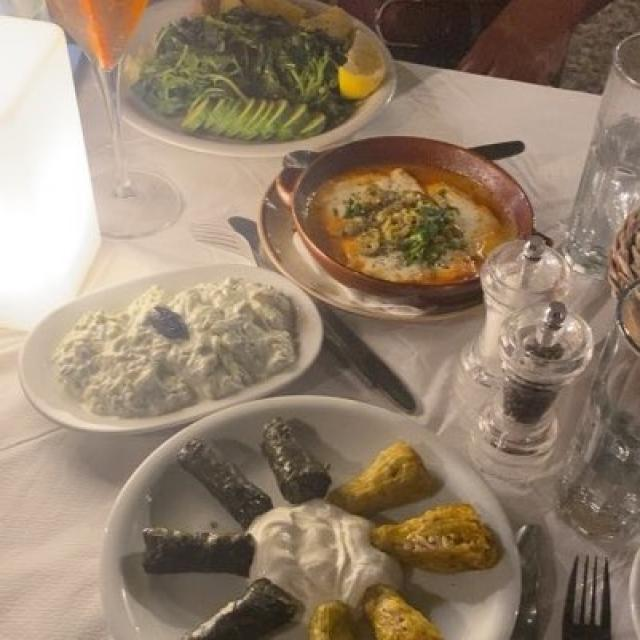cheese: (345, 173, 487, 275)
cucumber: (174, 88, 330, 136)
spinach: (124, 12, 346, 115)
tzatziki: (49, 274, 292, 407)
yogurt: (244, 506, 388, 601)
